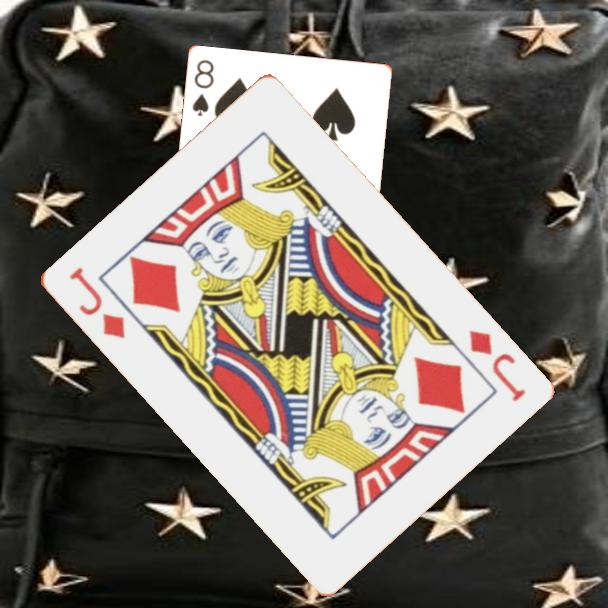d11: (464, 326, 528, 405), (65, 263, 128, 342)
s08: (189, 57, 217, 120)
